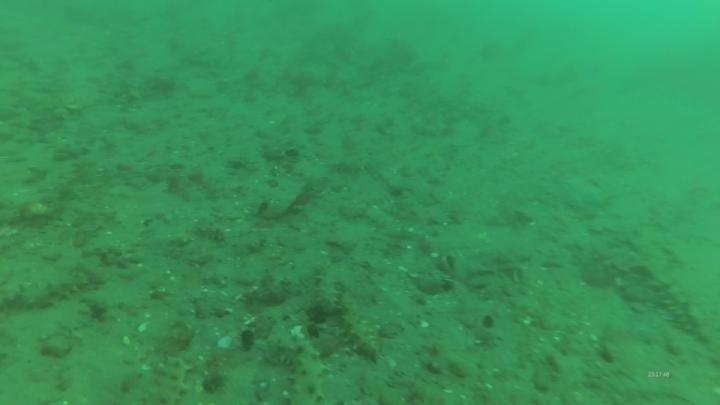holothurian: (259, 334, 330, 404), (1, 266, 99, 314), (335, 297, 384, 364), (145, 353, 194, 405), (310, 258, 346, 320)
starfish: (558, 169, 609, 213)
